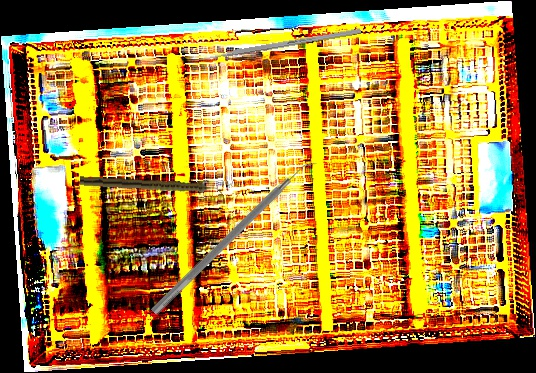Handpiece: (79, 176, 223, 196)
Pusher: (188, 27, 362, 65)
Spatula Surgical: (150, 152, 321, 323)
